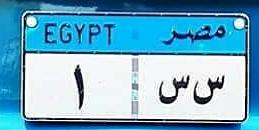1: (70, 62, 89, 109)
seen: (191, 71, 226, 108), (155, 74, 190, 110)
